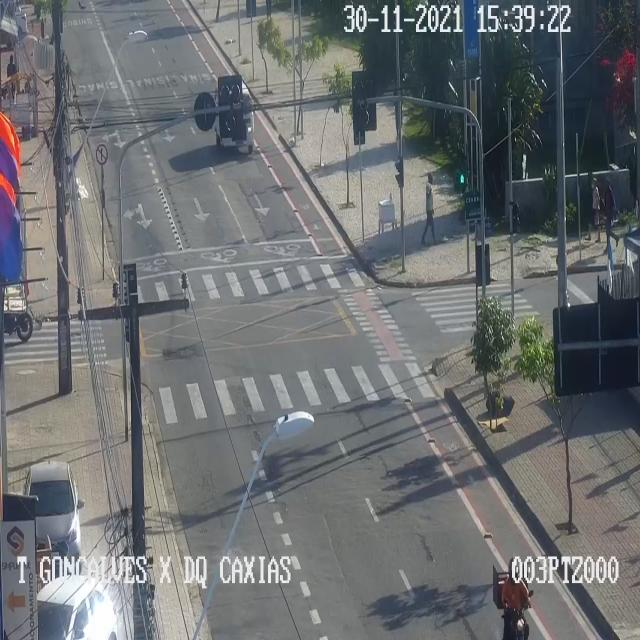Car: (24, 462, 84, 561), (38, 577, 123, 639), (214, 85, 255, 158)
Motorcycle: (494, 561, 534, 639)
